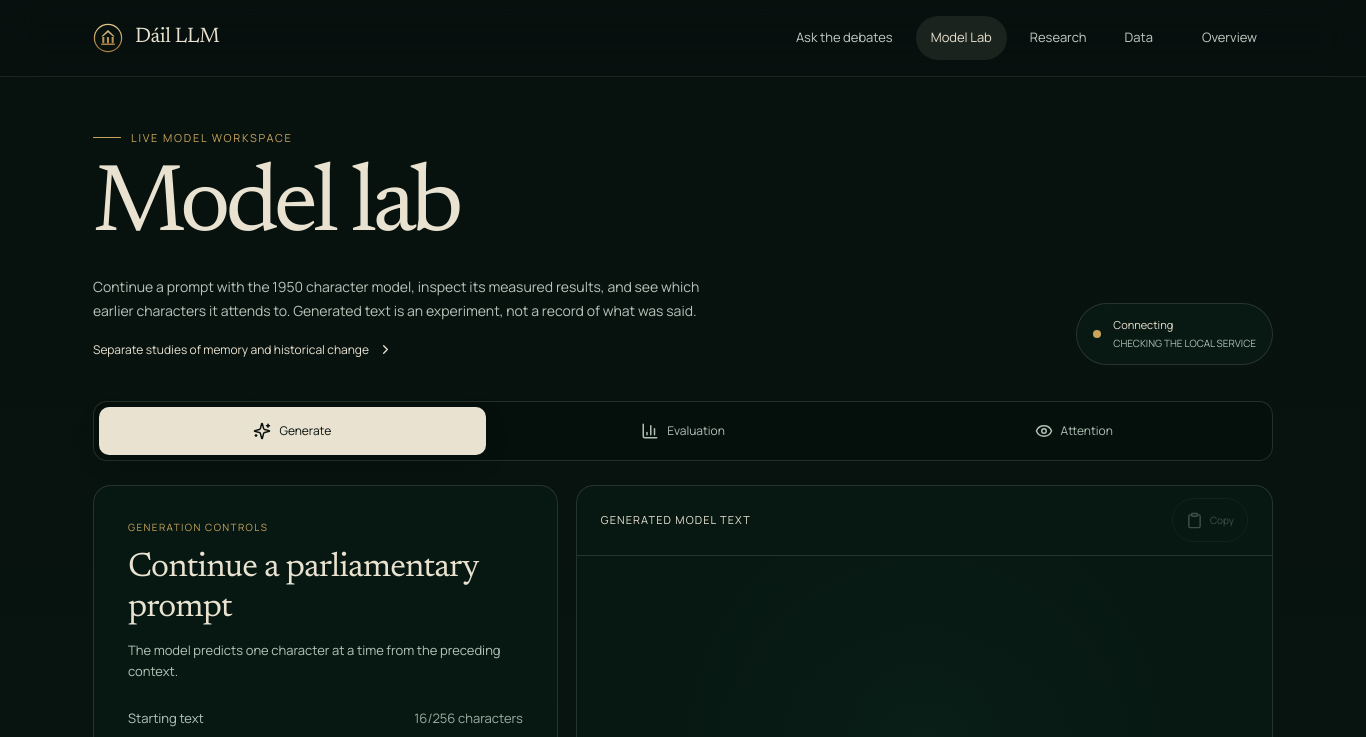
Scenario: Dáil LLM application › switches model lab panels with accessible tabs
Expected: the tab "Generate" is shown, [99,407,486,455]
Click the tab "Attention": x=1074, y=431 [880,407,1267,455]
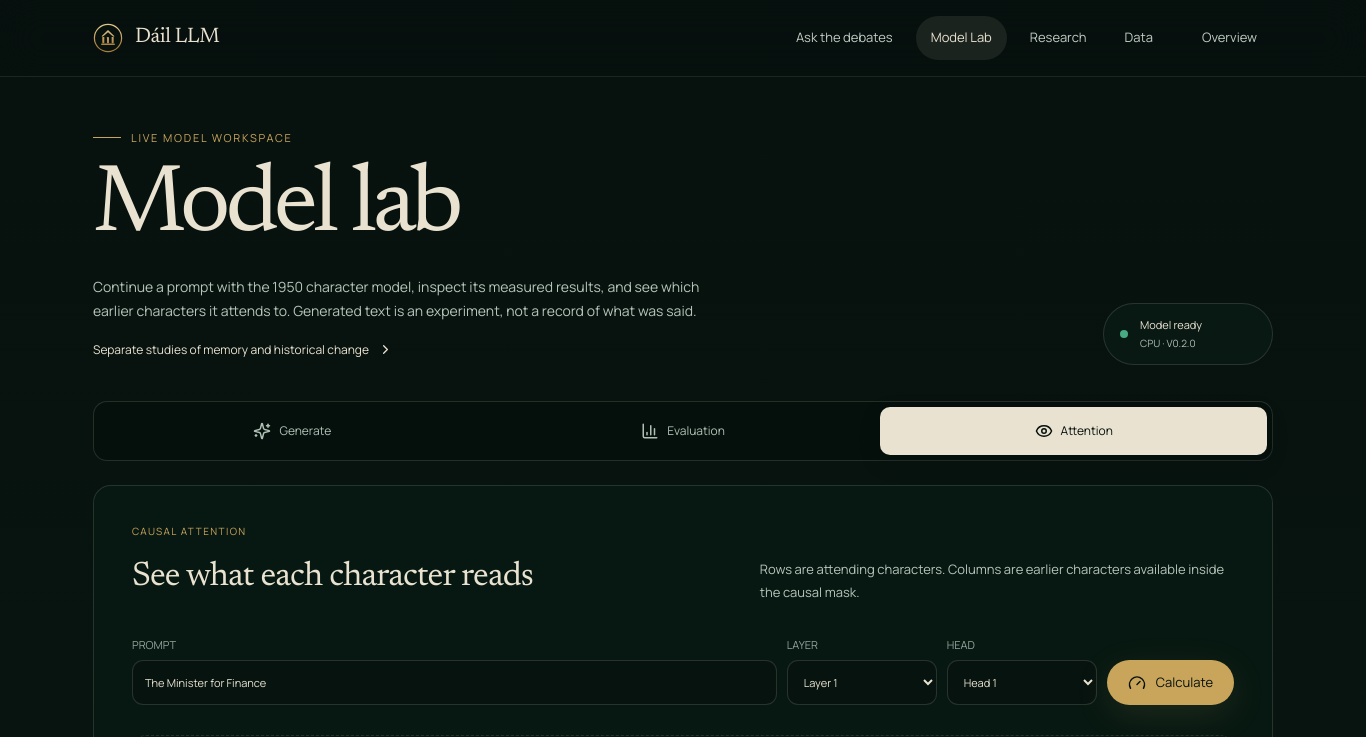
Expected: the heading "See what each character reads" is shown, [132,560,533,594]
